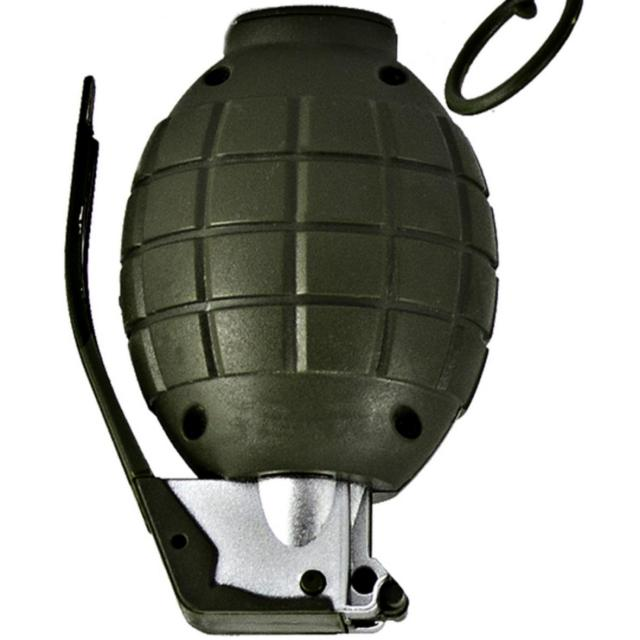grenade: (63, 4, 501, 638)
